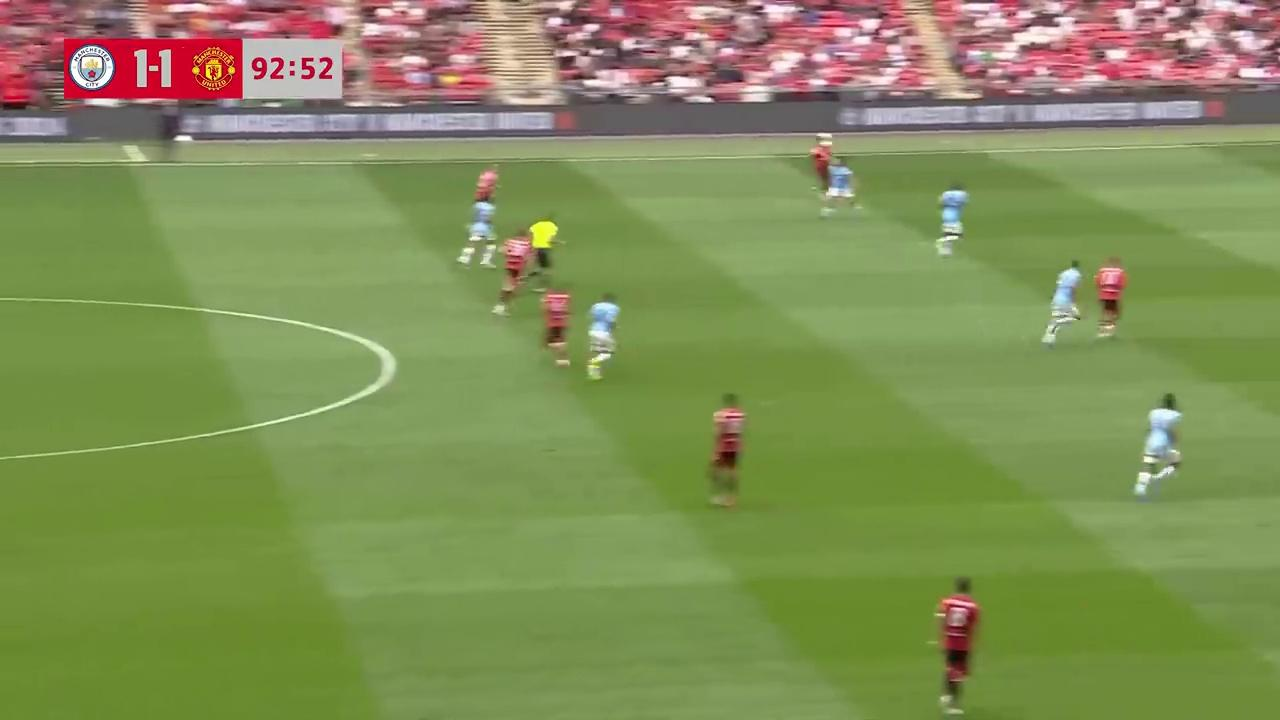player: (933, 577, 981, 709), (1133, 392, 1183, 496), (709, 396, 746, 508), (1040, 260, 1084, 347), (492, 230, 533, 315), (459, 164, 499, 249), (538, 283, 573, 369), (457, 192, 498, 265), (1093, 256, 1128, 338), (586, 292, 619, 378), (818, 155, 860, 216), (935, 182, 969, 255), (809, 139, 833, 197)
referee: (525, 215, 563, 282)
